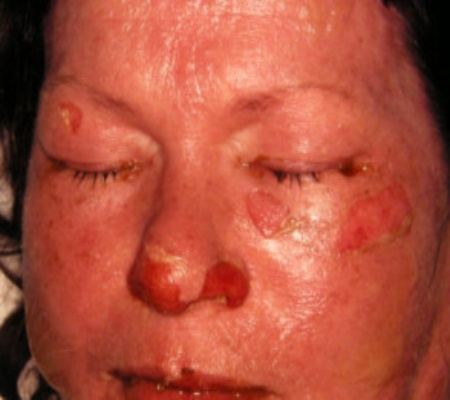SJS-TEN: (116, 231, 258, 345), (316, 175, 432, 275), (237, 167, 315, 249), (102, 359, 221, 400), (102, 146, 160, 200), (53, 94, 95, 142)
